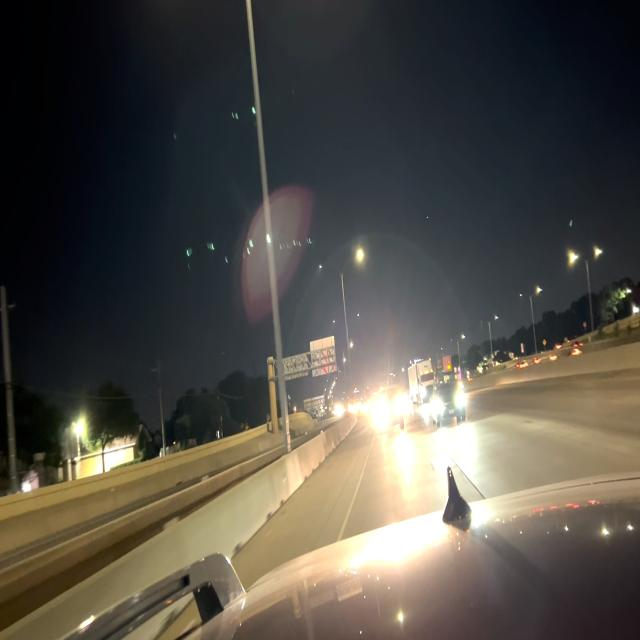back-of-sign: (282, 335, 337, 384), (304, 394, 325, 413)
